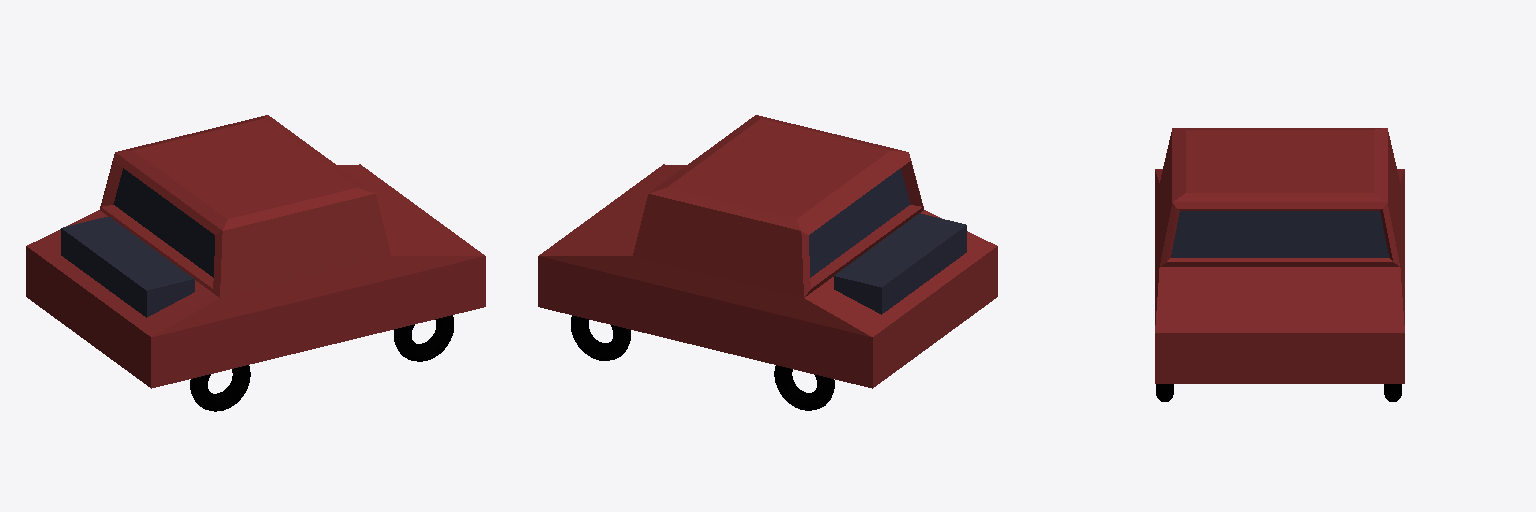
3 renders of one model, left to right at view 1: azimuth 30°, elevation 25°; view 2: azimuth 150°, elevation 25°; view 3: azimuth 270°, elevation 25°, orthographic.
Parts seen in each view (by area): view 1: Car_body, Engine, Tire, Tire001; view 2: Car_body, Engine, Tire003, Tire002; view 3: Car_body.
Part boxes in pixels (bbox=[...]): Car_body: bbox=[26, 115, 485, 388]; Engine: bbox=[61, 216, 194, 317]; Tire: bbox=[394, 315, 453, 361]; Tire001: bbox=[190, 365, 250, 411]; Car_body: bbox=[538, 115, 997, 388]; Engine: bbox=[834, 213, 966, 314]; Tire003: bbox=[571, 315, 630, 360]; Tire002: bbox=[774, 365, 834, 410]; Car_body: bbox=[1155, 128, 1404, 383].
Size of the model in its own units: 72.62 by 37.16 by 47.03.